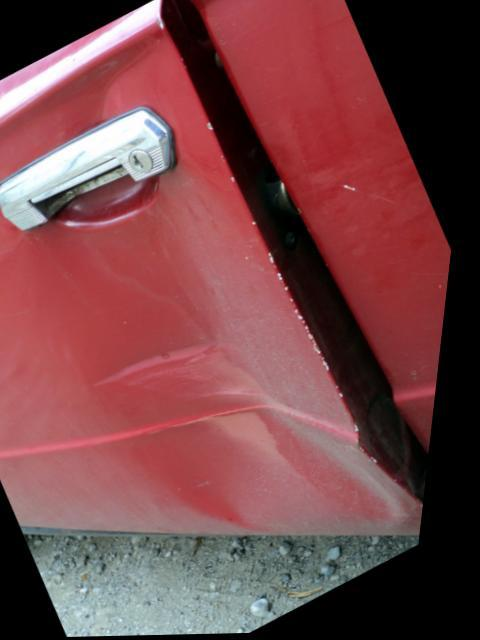dent: (37, 174, 391, 533)
